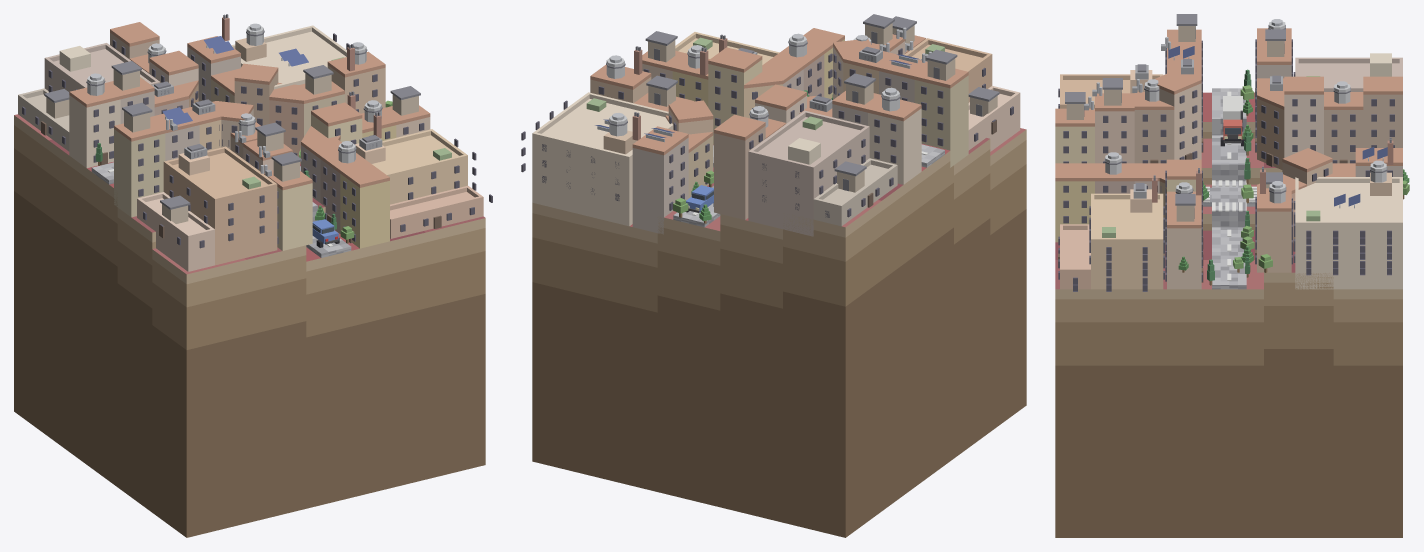
The model's file is block_17_permeable_20.glb.
3 renders of one model, left to right at view 1: azimuth 30°, elevation 25°; view 2: azimuth 150°, elevation 25°; view 3: azimuth 270°, elevation 25°, orthographic. The views are drawn at different scales.
Parts seen in each view (by area): view 1: Patch_MidRight_b15_PP, Cerda_MidRight_b15_PP, Insets_MidRight_b15_PP, CerdaRoofProps_MidRight_b15_PP, Roads_MidRight_b15_PP, Asset_Car.036_PP; view 2: Patch_MidRight_b15_PP, Cerda_MidRight_b15_PP, Insets_MidRight_b15_PP, CerdaRoofProps_MidRight_b15_PP, Roads_MidRight_b15_PP; view 3: Patch_MidRight_b15_PP, Cerda_MidRight_b15_PP, Insets_MidRight_b15_PP, CerdaRoofProps_MidRight_b15_PP, Roads_MidRight_b15_PP, Asset_Truck.009_PP, Zebra_MidRight_b15_PP.
Part boxes in pixels (x1,y1,x2,y2): Patch_MidRight_b15_PP: (14,114,485,537); Cerda_MidRight_b15_PP: (69,22,430,250); Insets_MidRight_b15_PP: (18,25,492,271); CerdaRoofProps_MidRight_b15_PP: (44,14,420,223); Roads_MidRight_b15_PP: (91,162,351,257); Asset_Car.036_PP: (312,219,339,247); Patch_MidRight_b15_PP: (532,128,1026,537); Cerda_MidRight_b15_PP: (590,28,968,234); Insets_MidRight_b15_PP: (521,32,1020,236); CerdaRoofProps_MidRight_b15_PP: (595,14,999,192); Roads_MidRight_b15_PP: (673,144,944,227); Patch_MidRight_b15_PP: (1055,92,1402,537); Cerda_MidRight_b15_PP: (1055,28,1402,289); Insets_MidRight_b15_PP: (1058,53,1402,291); CerdaRoofProps_MidRight_b15_PP: (1065,14,1393,221); Roads_MidRight_b15_PP: (1203,88,1256,289); Asset_Truck.009_PP: (1220,96,1244,146); Zebra_MidRight_b15_PP: (1203,180,1256,211).
Bounding box in the file's own units: 10 × 11.5 × 9.68.
